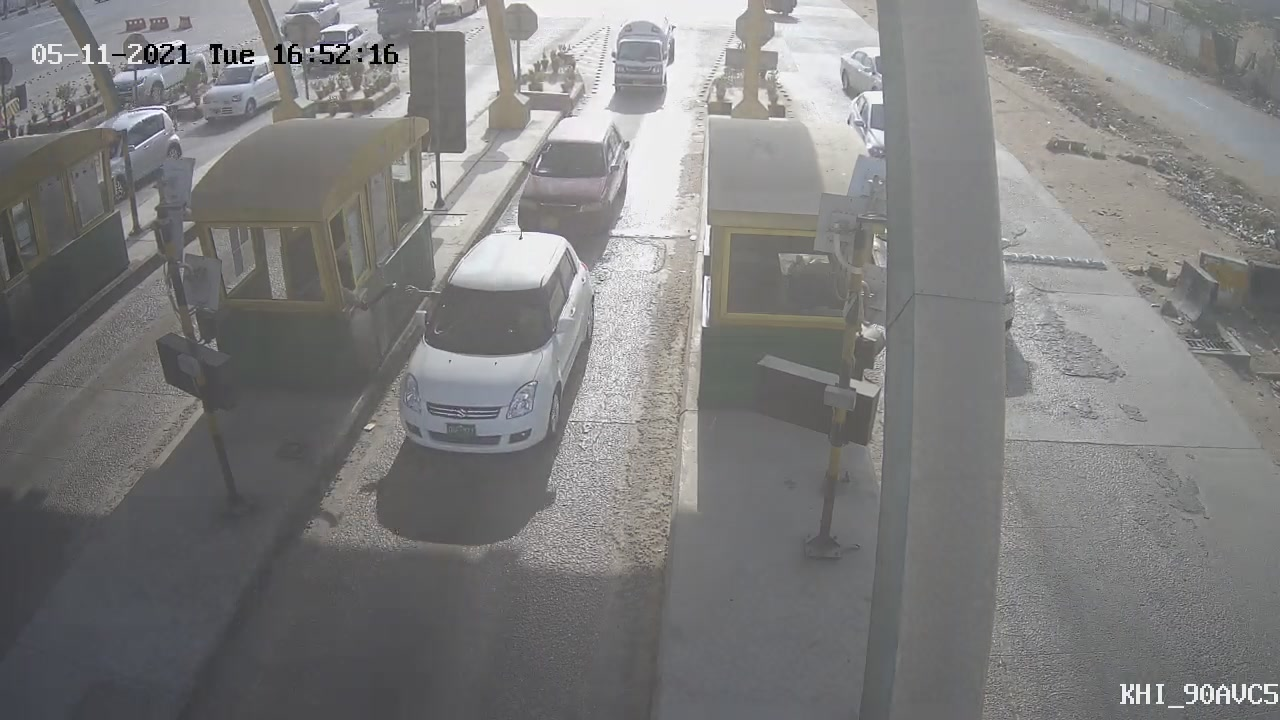F1: (378, 212, 614, 477), (503, 101, 648, 266)
